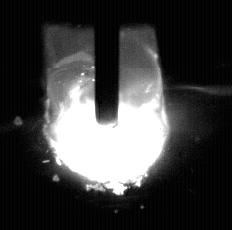arame: (95, 0, 121, 128)
poca: (51, 0, 170, 230)
